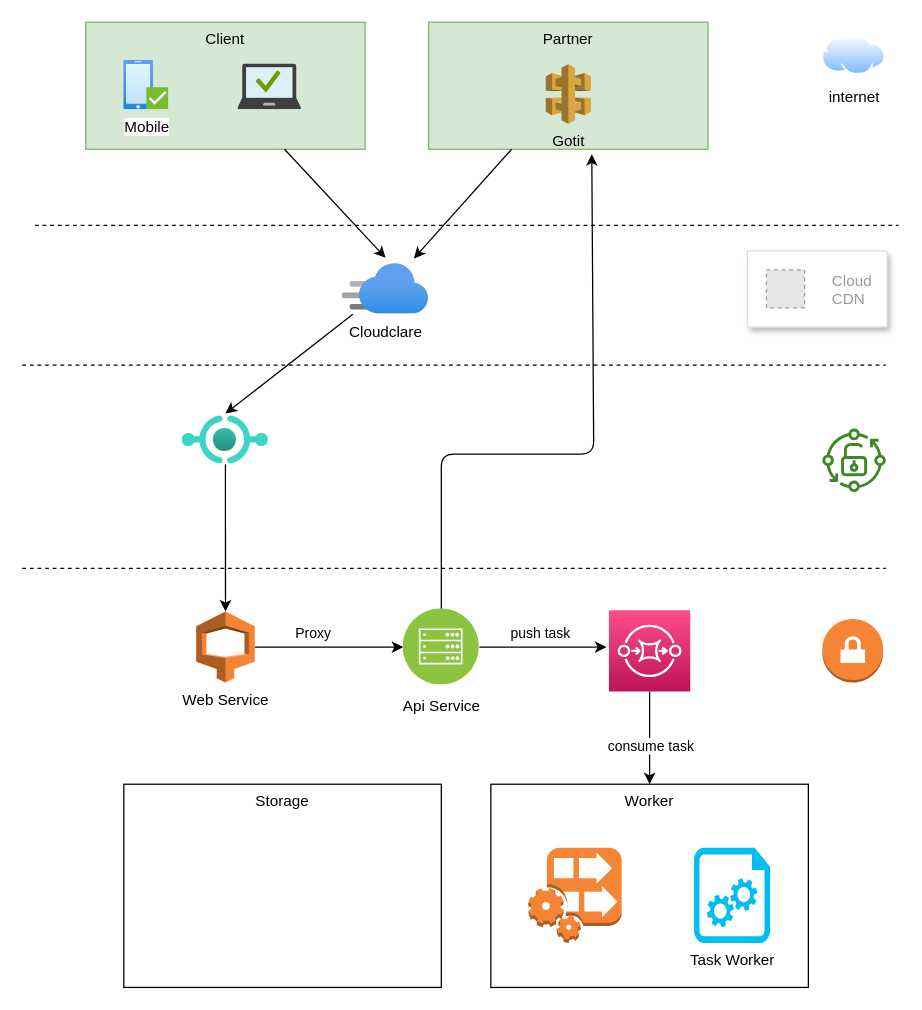
The diagram is 922 pixels wide and 1010 high, and some of its shapes have lost their labels. Grey dashed boxes stand in for pictures. Here are the shapes that lost their labels. From the top down, the centre of each, then its label:
point (269, 86): Desktop
point (225, 439): Nginx Proxy
point (853, 459): Public Zone
point (649, 650): RabbitMQ Service
point (852, 650): Private Zone
point (574, 894): Queue Worker
